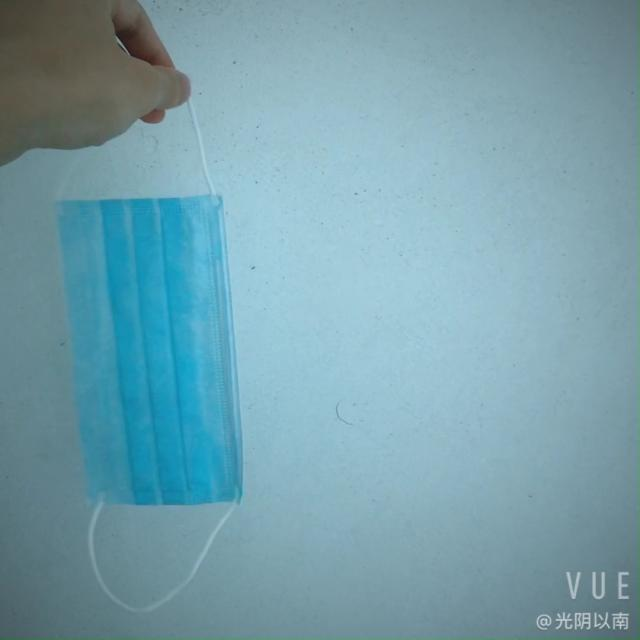face mask: (50, 181, 271, 522)
